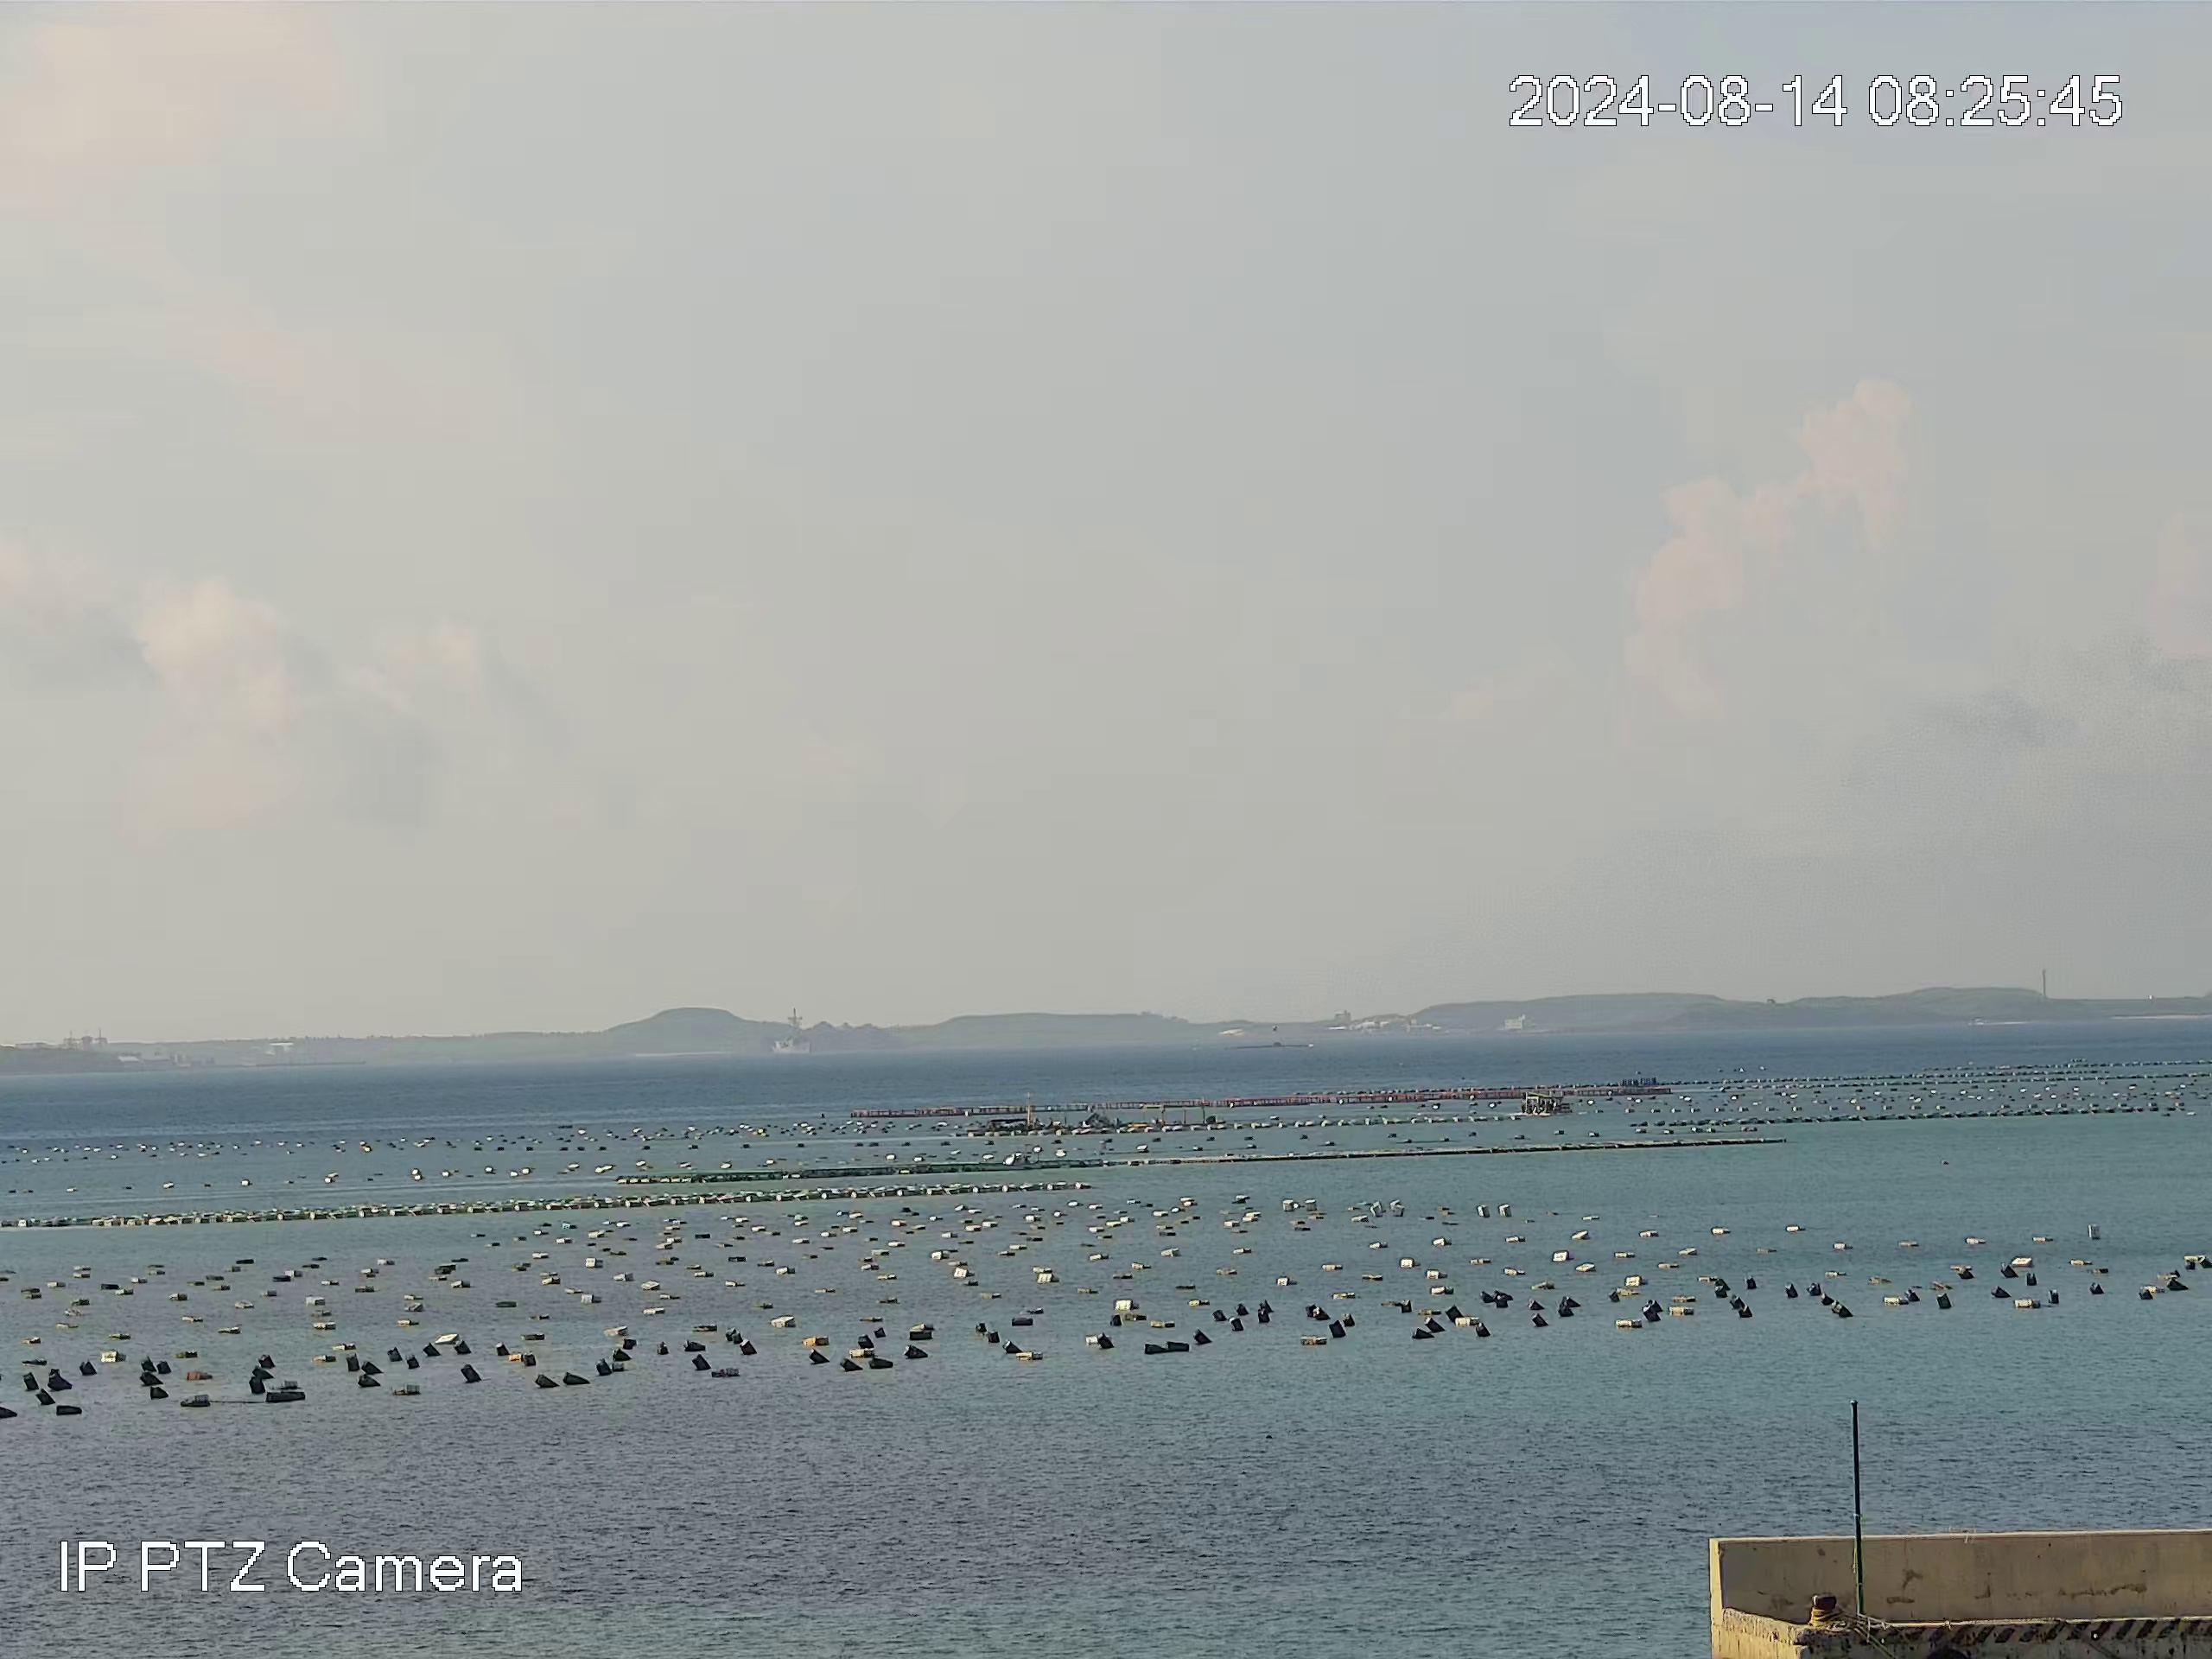boat: (1517, 1091, 1576, 1115)
